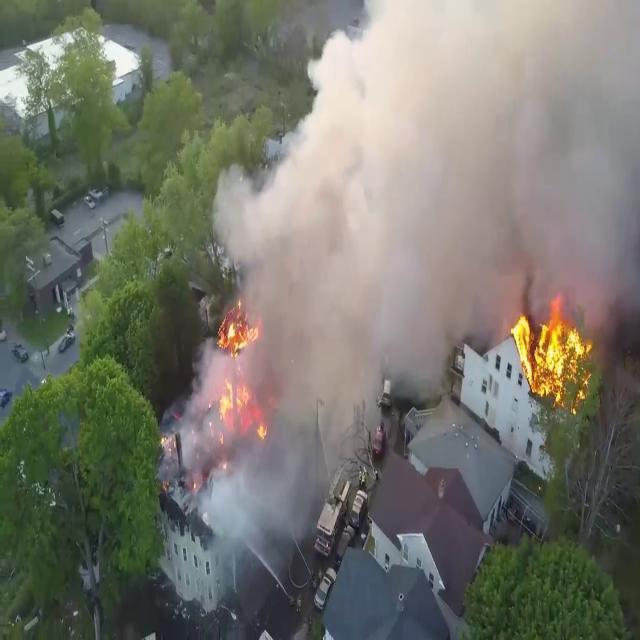Fire: (508, 296, 594, 404), (214, 304, 262, 434)
Smoke: (290, 0, 639, 306), (172, 235, 382, 557)
